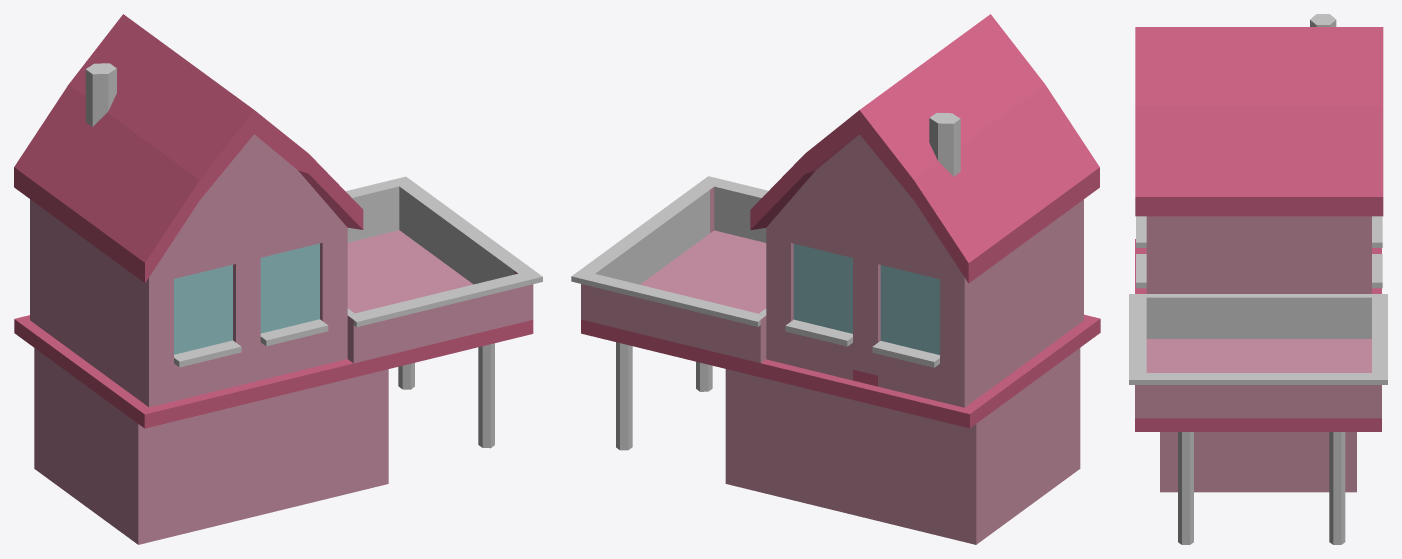
The model's file is House1_2.fbx.
3 views of the same model, side by side, from view 1: azimuth 30°, elevation 25°; view 2: azimuth 150°, elevation 25°; view 3: azimuth 270°, elevation 25° (orthographic). The views are drawn at different scales.
Visible parts, largest first — view 1: Cube; view 2: Cube; view 3: Cube.
Part boxes in pixels (x1,y1,x2,y2): Cube: (14,14,542,544); Cube: (571,14,1100,544); Cube: (1129,14,1387,544).
Size of the model in its own units: 163 by 166 by 98.02.
